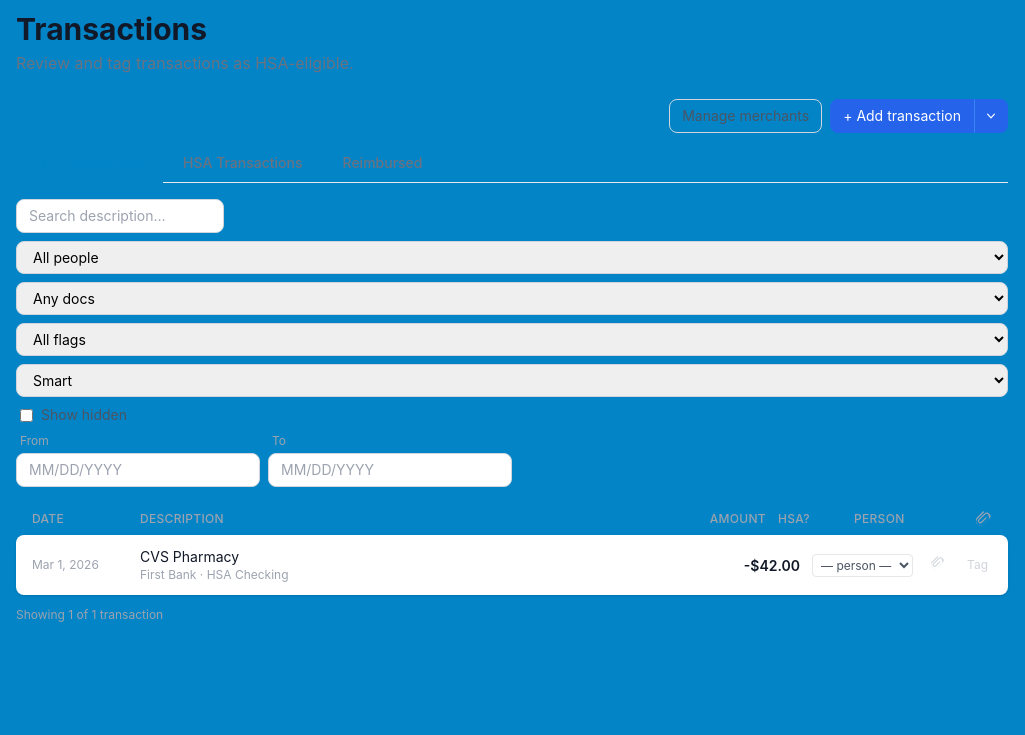
it: Transactions page › category filter › shows warning banner when teller category filter is active
Check: the text "CVS Pharmacy" is shown, box [140,548,239,565]
Select "Health" in the 4th dropdown showing "Smart" at (512, 380), box [16,364,1008,397]
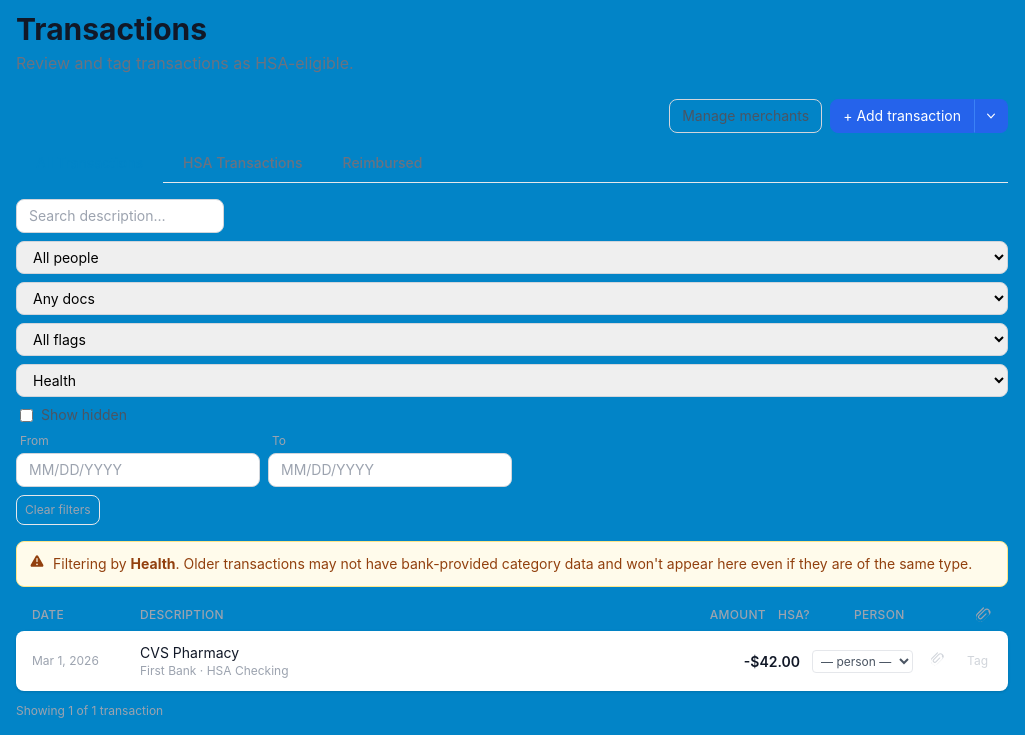
Check: the text "Older transactions may not have bank-provided category data" is shown, box [176,555,972,572]
